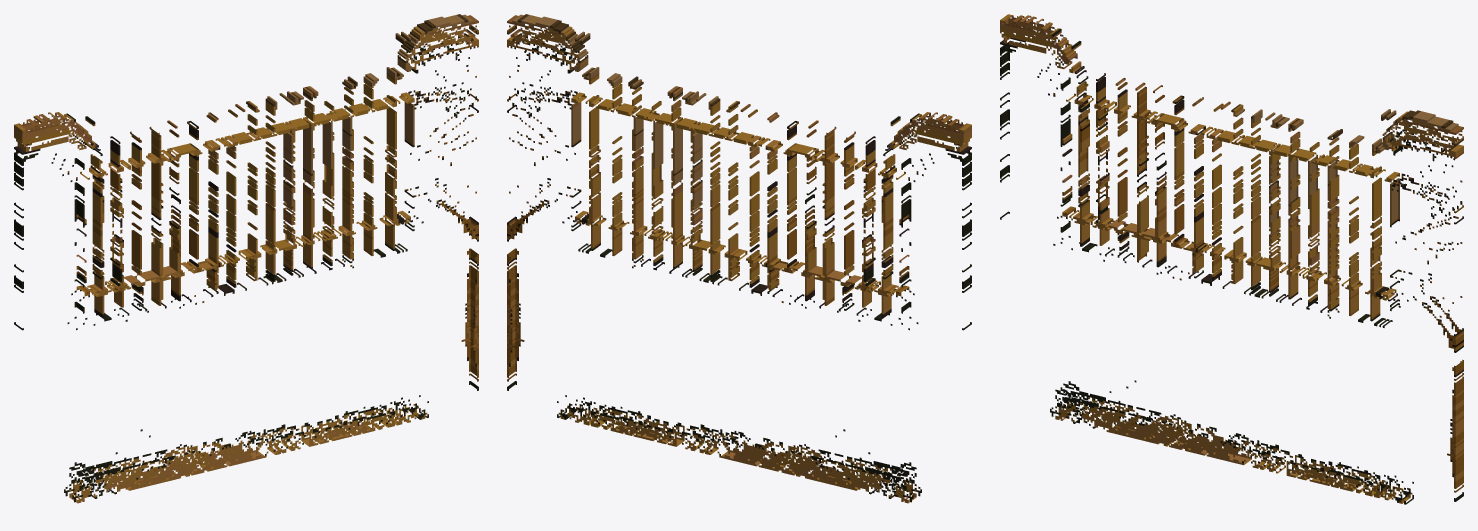
The model's file is yellowPhanTuWall1.obj.
The picture shows the model from 3 angles, left to right: view 1: azimuth 30°, elevation 25°; view 2: azimuth 150°, elevation 25°; view 3: azimuth 330°, elevation 25°; orthographic projection.
Bounding box in the file's own units: 25.6 × 20.9 × 0.8.
